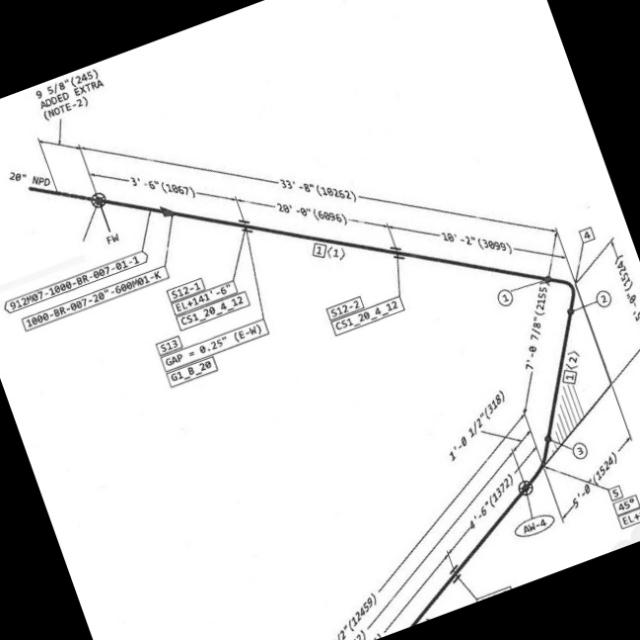Item number: (29, 56, 102, 111), (163, 274, 209, 305), (324, 290, 368, 322), (153, 333, 188, 358), (577, 221, 596, 242), (607, 481, 624, 501), (310, 240, 329, 257)
Measrement: (76, 141, 561, 243), (323, 408, 530, 639), (364, 459, 523, 637), (21, 61, 121, 158), (379, 215, 563, 259), (556, 424, 634, 526), (231, 188, 401, 232), (83, 160, 245, 204), (511, 275, 550, 417), (608, 230, 639, 328), (563, 337, 584, 434), (610, 493, 639, 516)
Pipeline: (27, 180, 582, 627)
Symbol: (533, 233, 602, 322), (520, 429, 561, 504), (86, 188, 112, 209), (383, 239, 409, 258)
Weld number: (509, 506, 561, 537), (497, 286, 516, 307), (594, 288, 613, 309), (569, 439, 588, 460)
other: (1, 245, 154, 320), (155, 309, 286, 394), (18, 266, 163, 331), (166, 269, 258, 338), (444, 379, 508, 454), (327, 290, 410, 341), (40, 93, 87, 122), (6, 166, 55, 186), (617, 504, 639, 529)
